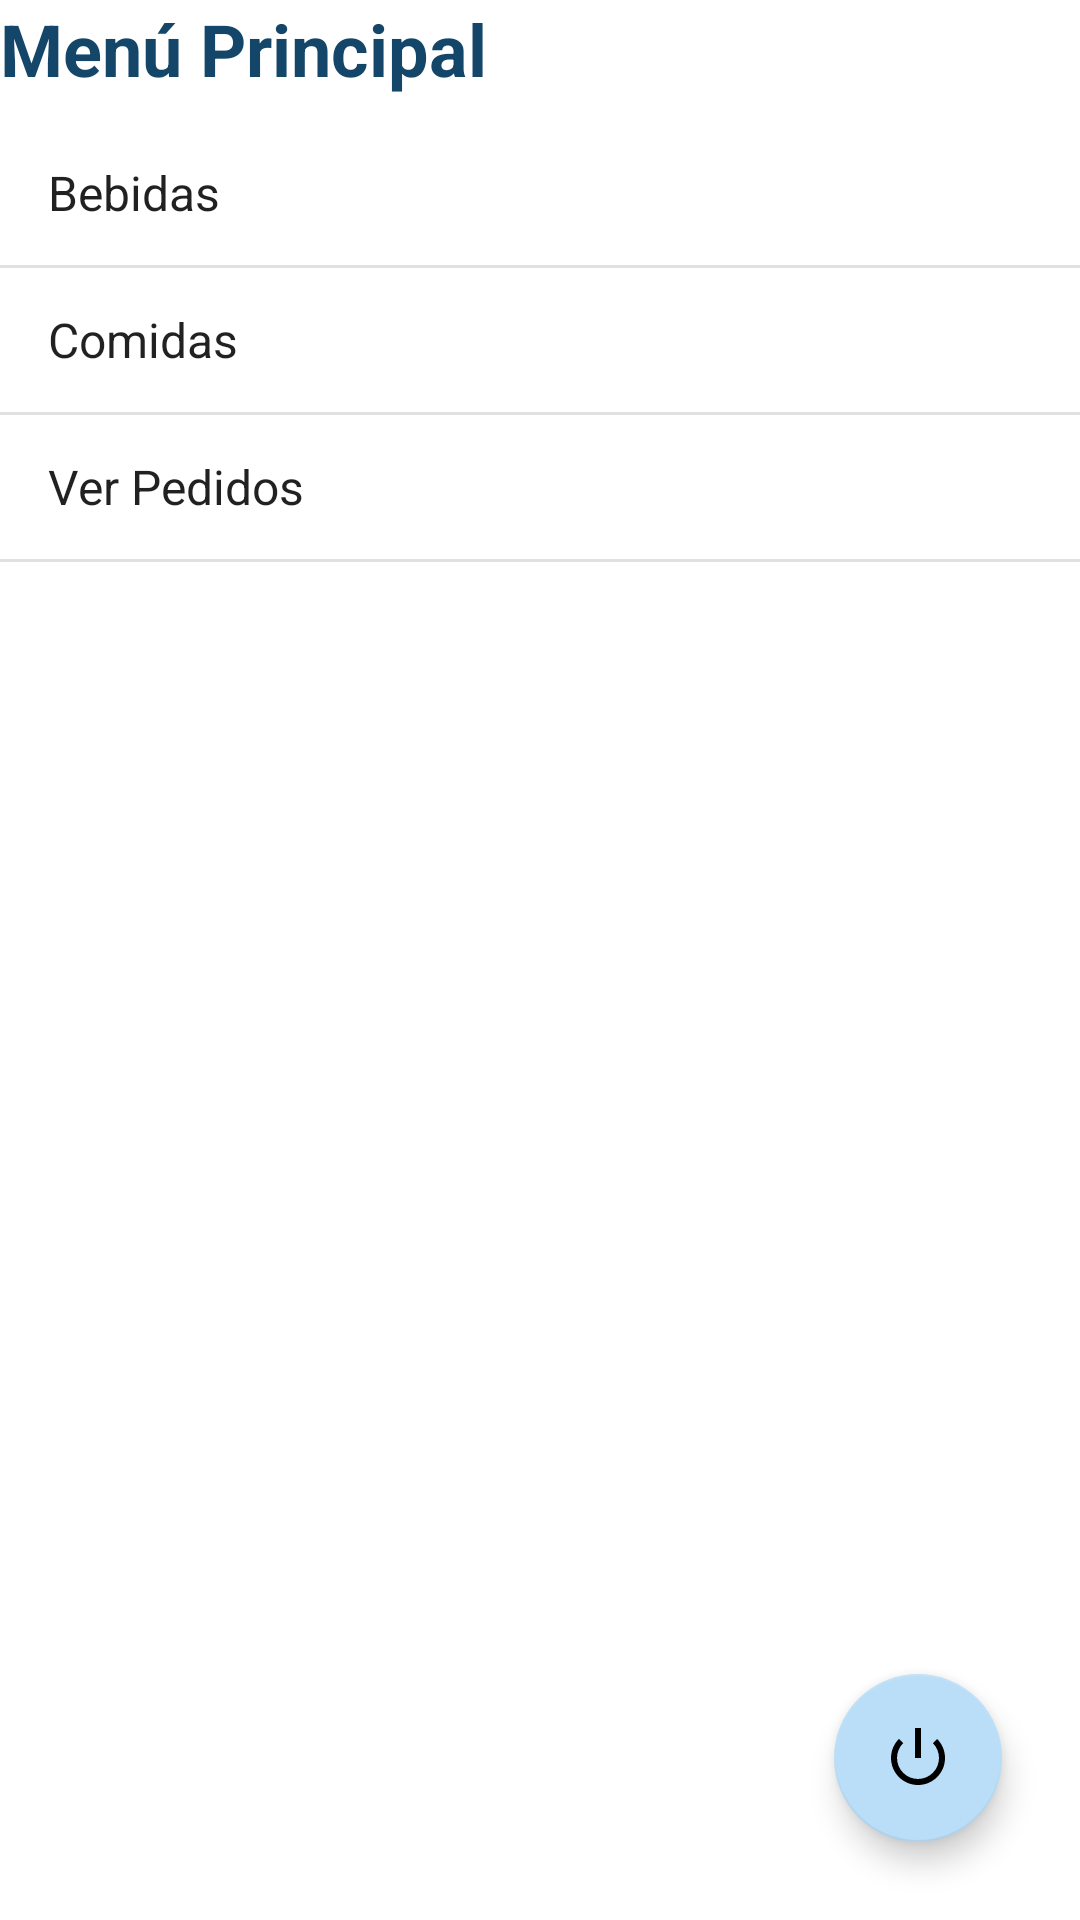

Locate icon controls on the screen. Image size 1080 x 1920, boxes as (x1, y1, x2, y2).
lock power off: (834, 1674, 1002, 1842)
